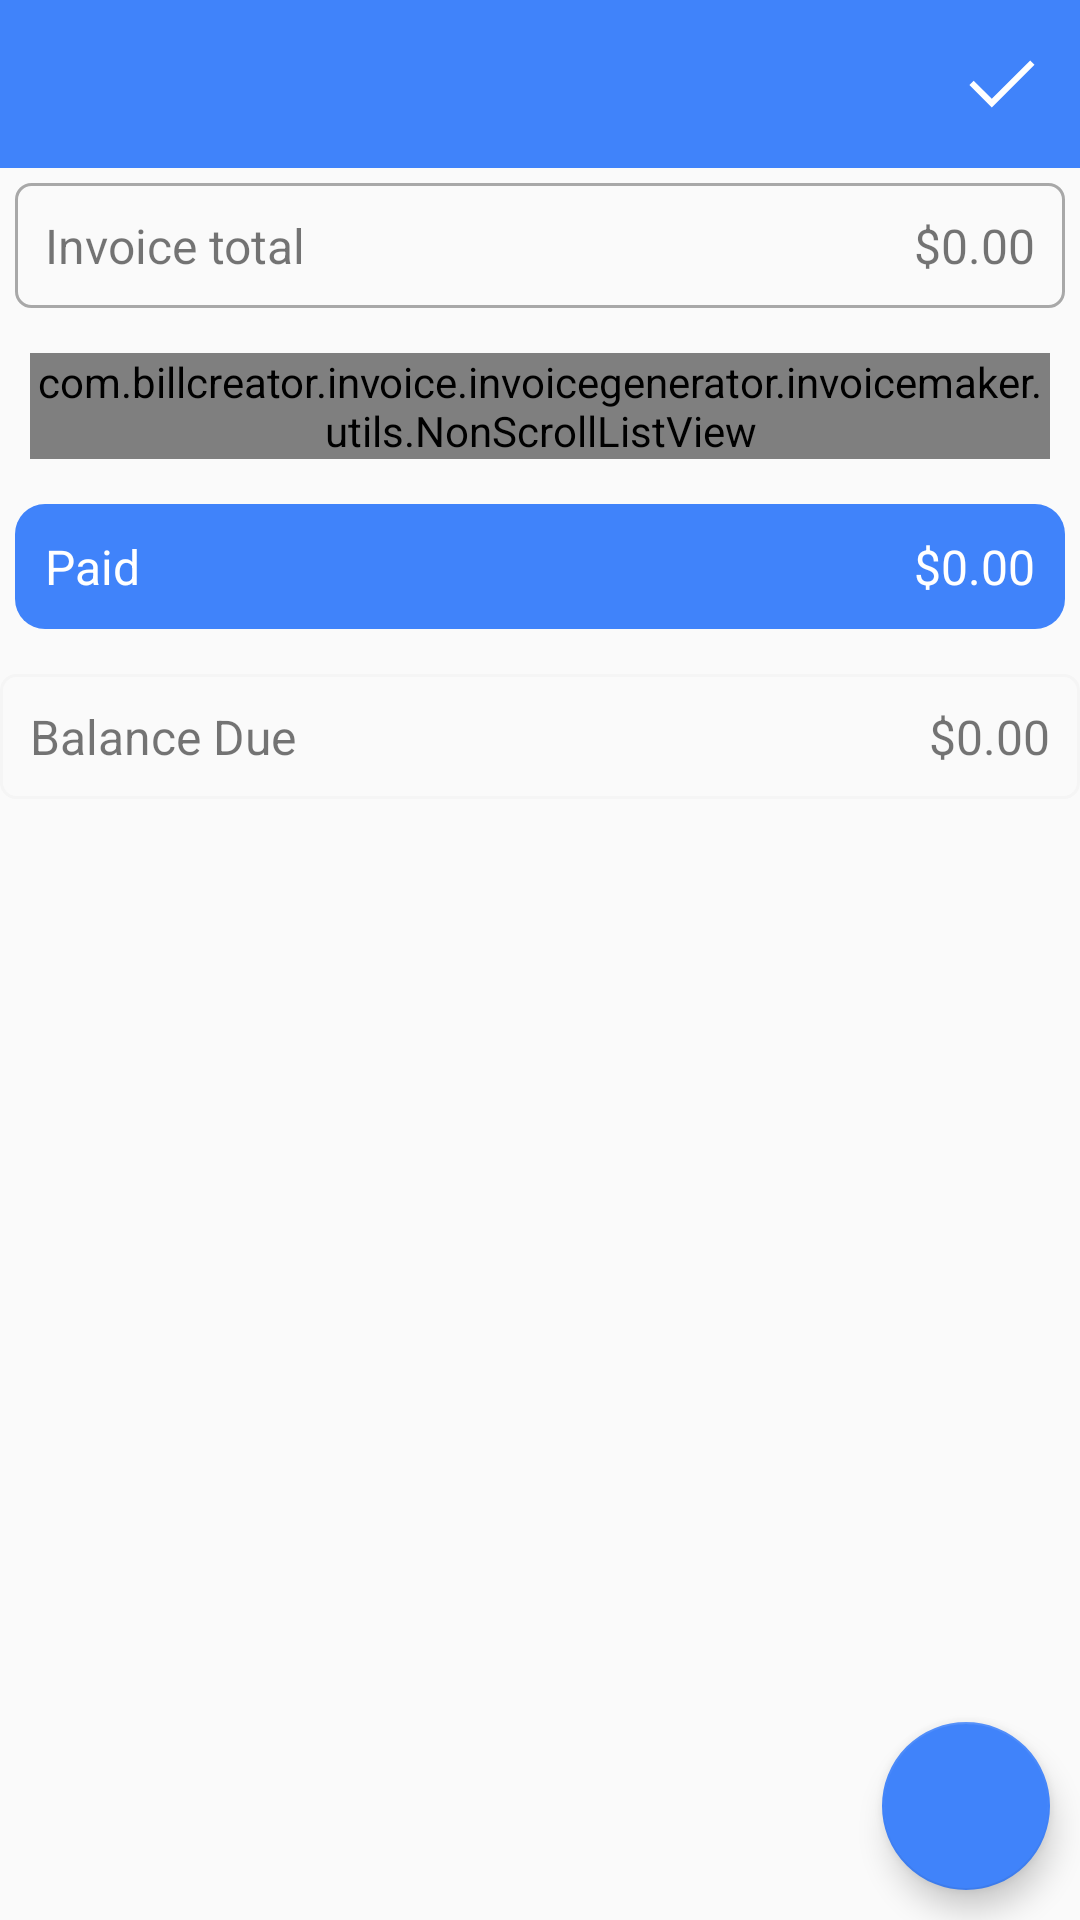

Named icons in this screenshot (1080px x 1920px) and their bounding boxes, (x1, y1, x2, y2):
done: (969, 60, 1035, 108)
